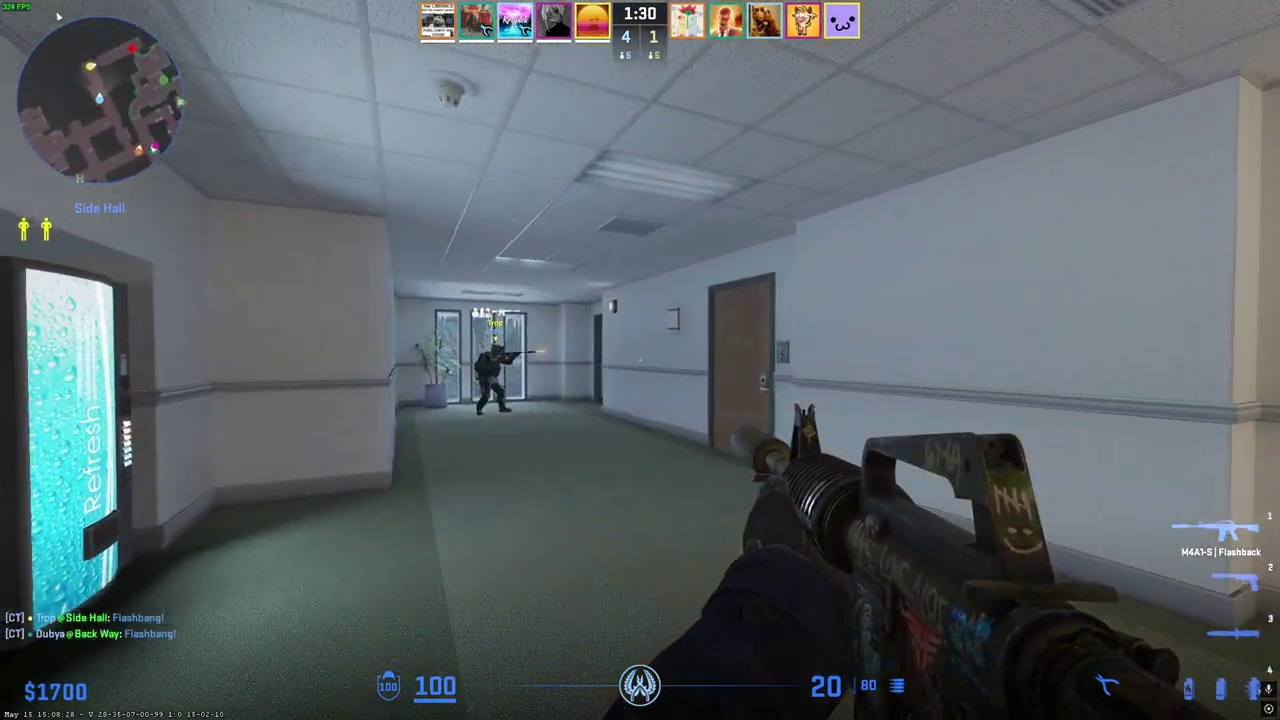CT: (474, 344, 512, 415)
